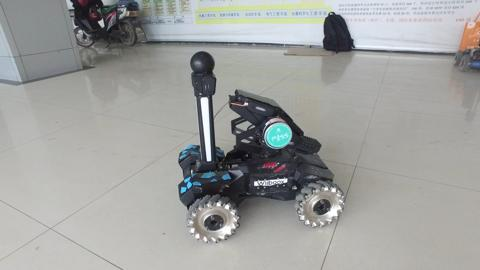bag: (320, 10, 357, 55)
chariot: (176, 49, 345, 244)
